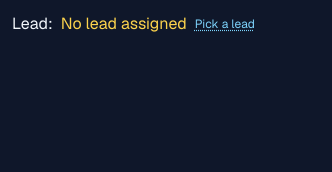
Test case: LeadPicker (spec §16 P1 5) › preselects the project PM (is_default) once the candidates arrive
The width and height of the screenshot is (332, 172).
Click the button with test id "lead-edit".
click(225, 24)  # box x1=195 y1=16 x2=255 y2=32
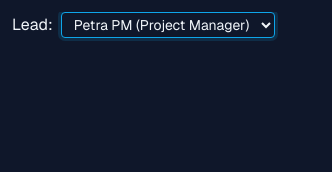
Now the dropdown with test id "lead-select" shows "Petra PM (Project Manager)", box x1=61 y1=12 x2=275 y2=38
